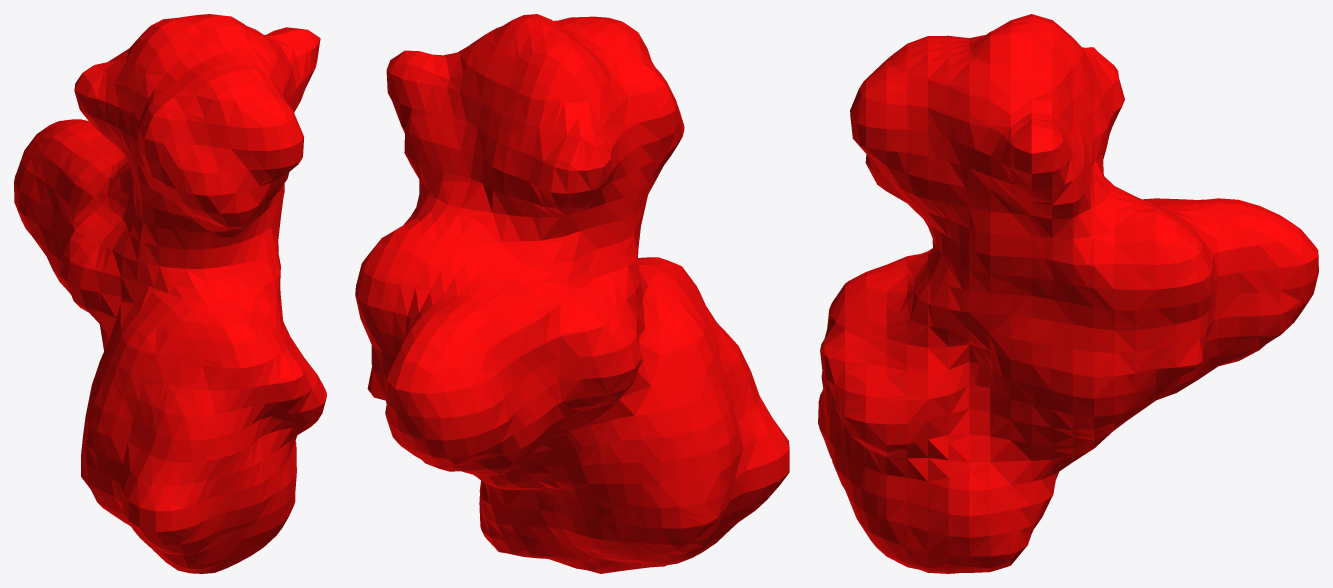
The model's file is truB_coarse.dae.
3 renders of one model, left to right at view 1: azimuth 30°, elevation 25°; view 2: azimuth 150°, elevation 25°; view 3: azimuth 270°, elevation 25°, orthographic. The views are drawn at different scales.
Visible parts, largest first — view 1: truB; view 2: truB; view 3: truB.
Part boxes in pixels (left/top/right/bottom): truB: left=14, top=14, right=326, bottom=573; truB: left=355, top=14, right=789, bottom=573; truB: left=818, top=14, right=1318, bottom=573.
Size of the model in its own units: 42.05 by 75.81 by 62.48.
